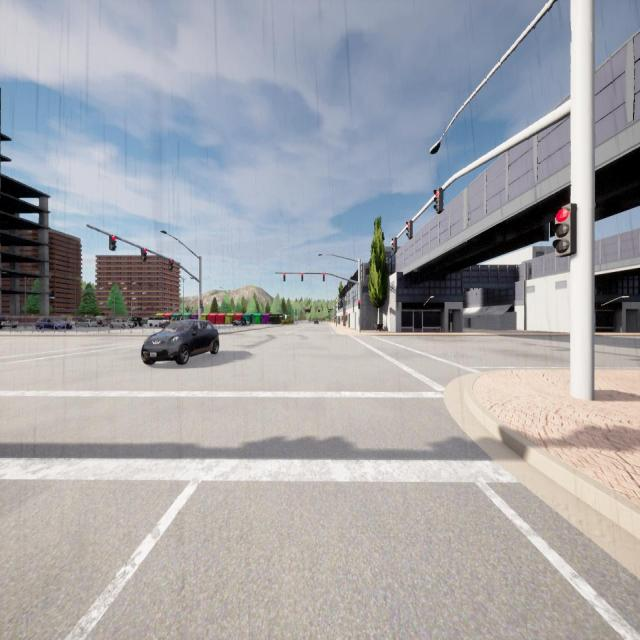Vehicle: (141, 319, 220, 364), (35, 317, 73, 330), (110, 318, 135, 329), (148, 316, 168, 328), (0, 316, 18, 329), (75, 317, 92, 328), (96, 315, 109, 327), (130, 317, 142, 327), (232, 318, 246, 326), (158, 320, 168, 328), (314, 319, 319, 325)
traffic_light: (552, 203, 576, 257), (434, 188, 444, 214), (406, 220, 412, 240), (109, 235, 116, 251), (392, 237, 397, 253), (141, 248, 147, 261), (169, 258, 173, 270), (199, 300, 203, 308), (283, 272, 286, 282), (301, 272, 303, 282), (358, 300, 360, 309), (323, 273, 325, 281)
